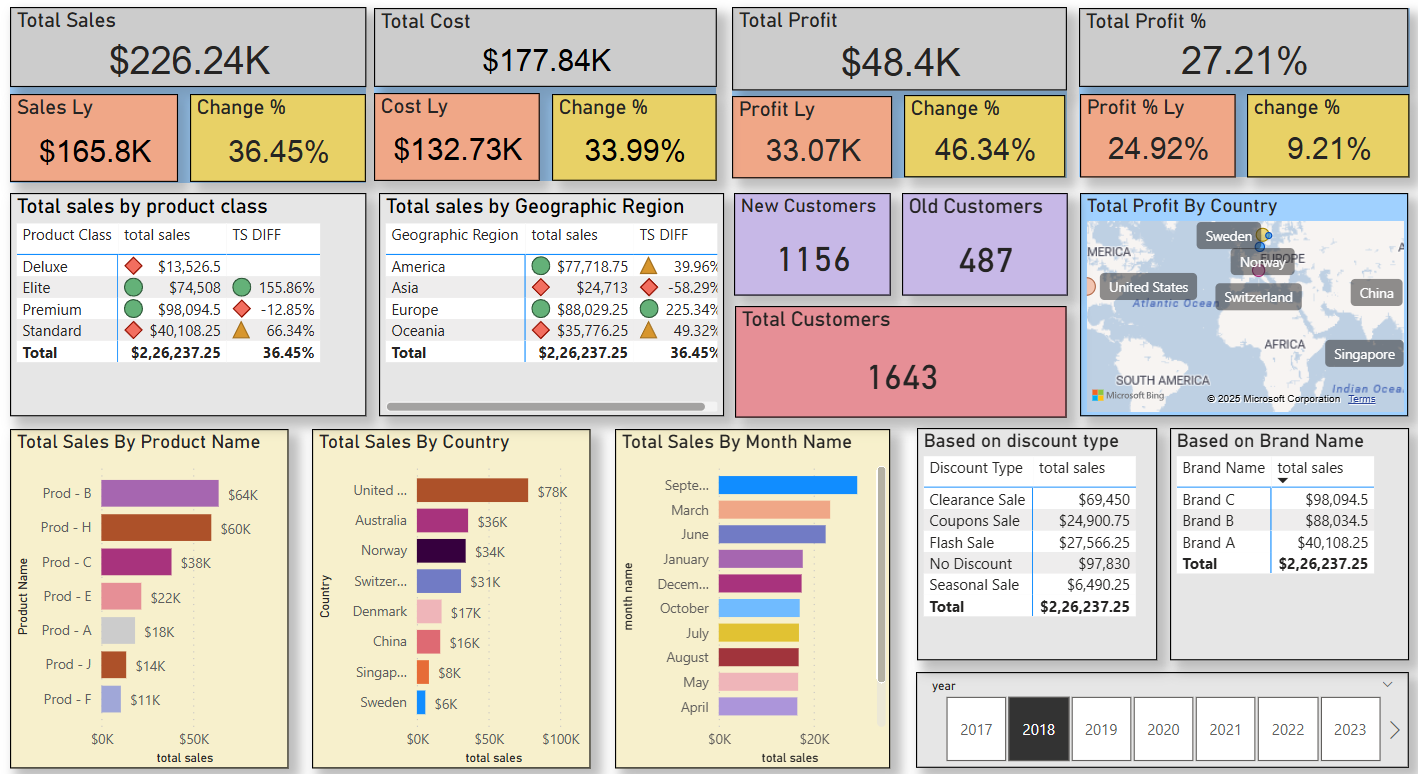

The page's visual inventory and layout, read from the dashboard file:
{"tool":"powerbi","page":{"name":"Page 1","canvas":[1280,720],"ordinal":0},"visuals":[{"type":"card","title":"Total Sales","fields":{"Values":["ALL Measures.total sales"]},"box":[13.2,34.4,315.6,70.8],"z":0,"group":"g1"},{"type":"card","title":"Total Profit","fields":{"Values":["ALL Measures.total profit"]},"box":[653.8,34.6,296.7,73.8],"z":0,"group":"g2"},{"type":"card","title":"Total Cost","fields":{"Values":["ALL Measures.total cost"]},"box":[335.9,35,304,70],"z":0,"group":"g3"},{"type":"card","title":"Total Profit %","fields":{"Values":["ALL Measures.total profit %"]},"box":[961.1,35.5,292.1,69.5],"z":0,"group":"g4"},{"type":"slicer","fields":{"Values":["calender table.year"]},"box":[816.6,624.4,436.7,85.4],"z":0},{"type":"group","id":"g1","title":"Group 1","box":[13.2,34.4,315.7,155.8],"z":1000},{"type":"card","title":"Cost Ly","fields":{"Values":["ALL Measures.cost ly"]},"box":[335.9,110.1,146.6,78],"z":1000,"group":"g3"},{"type":"card","title":"Profit % Ly","fields":{"Values":["ALL Measures.profit % ly"]},"box":[962.1,111.6,137.8,74],"z":1000,"group":"g4"},{"type":"card","title":"Sales Ly","fields":{"Values":["ALL Measures.sales ly"]},"box":[13.3,112,149,78.2],"z":1000,"group":"g1"},{"type":"card","title":"Profit Ly","fields":{"Values":["ALL Measures.profit ly"]},"box":[654.1,113.4,142.1,73],"z":1000,"group":"g2"},{"type":"group","id":"g2","title":"Group 1","box":[653.8,34.6,296.7,151.8],"z":2000},{"type":"card","title":"Change %","fields":{"Values":["ALL Measures.% change in total cost"]},"box":[494,111.6,145.7,77],"z":2000,"group":"g3"},{"type":"card","title":"change %","fields":{"Values":["ALL Measures.% change in total profit %"]},"box":[1109.8,111.6,144.4,74],"z":2000,"group":"g4"},{"type":"card","title":"Change %","fields":{"Values":["ALL Measures.% change in total sales"]},"box":[172.8,112,156.1,78.2],"z":2000,"group":"g1"},{"type":"card","title":"Change %","fields":{"Values":["ALL Measures.% change in total profit"]},"box":[806.6,112.5,143,73],"z":2000,"group":"g2"},{"type":"group","id":"g3","title":"Group 1","box":[335.9,35,303.6,153.6],"z":3000},{"type":"group","id":"g4","title":"Group 1","box":[961.1,35.5,293.1,150.1],"z":4000},{"type":"map","title":"Total Profit By Country","fields":{"Size":["ALL Measures.total profit"],"Category":["Location Details.Country"]},"box":[962,199.9,291.4,198.1],"z":5000},{"type":"clusteredBarChart","title":"Total Sales By Product Name","fields":{"Y":["ALL Measures.total sales"],"Category":["Products Details.Product Name"]},"box":[13.3,408.6,246.9,301.1],"z":6000},{"type":"clusteredBarChart","title":"Total Sales By Country","fields":{"Y":["ALL Measures.total sales"],"Category":["Location Details.Country"]},"box":[280.7,408.6,246.9,301.1],"z":7000},{"type":"pivotTable","title":"Total sales by product class","fields":{"Values":["ALL Measures.total sales","ALL Measures.TS DIFF"],"Rows":["Products Details.Product Class"]},"box":[13.3,199.9,316.2,198.1],"z":8000},{"type":"pivotTable","title":"Total sales by Geographic Region","fields":{"Values":["ALL Measures.total sales","ALL Measures.TS DIFF"],"Rows":["Location Details.Geographic Region"]},"box":[340.2,199.9,306.5,198.1],"z":9000},{"type":"card","title":"New Customers","fields":{"Values":["ALL Measures.New Customer"]},"box":[655.5,199.9,138.6,91.5],"z":10000},{"type":"card","title":"Old Customers","fields":{"Values":["ALL Measures.Old Customer"]},"box":[803.9,199.9,146.6,91.5],"z":11000},{"type":"card","title":"Total Customers","fields":{"Values":["ALL Measures.Total Customers"]},"box":[656.4,299.3,294,98.6],"z":12000},{"type":"pivotTable","title":"Based on discount type","fields":{"Values":["ALL Measures.total sales"],"Rows":["Discount Details.Discount Type"]},"box":[817.5,408.3,213.5,206.4],"z":13000},{"type":"pivotTable","title":"Based on Brand Name","fields":{"Values":["ALL Measures.total sales"],"Rows":["Products Details.Brand Name"]},"box":[1041.6,408.3,211.7,206.4],"z":14000},{"type":"clusteredBarChart","title":"Total Sales By Month Name","fields":{"Y":["ALL Measures.total sales"],"Category":["calender table.month name"]},"box":[549.8,408.6,244.3,301.1],"z":15000}]}

Visuals, with their boxes in screenshot pixels (x1, y1, x2, y2):
"Total Sales" card: <box>0,2,357,83</box>
"Total Profit" card: <box>728,3,1067,87</box>
"Total Cost" card: <box>365,3,712,83</box>
"Total Profit %" card: <box>1079,4,1412,83</box>
slicer - calender table.year: <box>914,676,1412,773</box>
"Group 1" group: <box>0,2,357,180</box>
"Cost Ly" card: <box>365,89,532,178</box>
"Profit % Ly" card: <box>1080,90,1237,175</box>
"Sales Ly" card: <box>0,91,167,180</box>
"Profit Ly" card: <box>728,93,891,176</box>
"Group 1" group: <box>728,3,1067,176</box>
"Change %" card: <box>546,90,712,178</box>
"change %" card: <box>1249,90,1413,175</box>
"Change %" card: <box>179,91,357,180</box>
"Change %" card: <box>902,92,1066,175</box>
"Group 1" group: <box>365,3,712,178</box>
"Group 1" group: <box>1079,4,1413,175</box>
"Total Profit By Country" map: <box>1080,191,1412,417</box>
"Total Sales By Product Name" clusteredBarChart: <box>0,430,279,773</box>
"Total Sales By Country" clusteredBarChart: <box>302,430,584,773</box>
"Total sales by product class" pivotTable: <box>0,191,358,417</box>
"Total sales by Geographic Region" pivotTable: <box>370,191,720,417</box>
"New Customers" card: <box>730,191,888,296</box>
"Old Customers" card: <box>899,191,1067,296</box>
"Total Customers" card: <box>731,305,1067,417</box>
"Based on discount type" pivotTable: <box>915,429,1159,665</box>
"Based on Brand Name" pivotTable: <box>1171,429,1412,665</box>
"Total Sales By Month Name" clusteredBarChart: <box>609,430,888,773</box>
